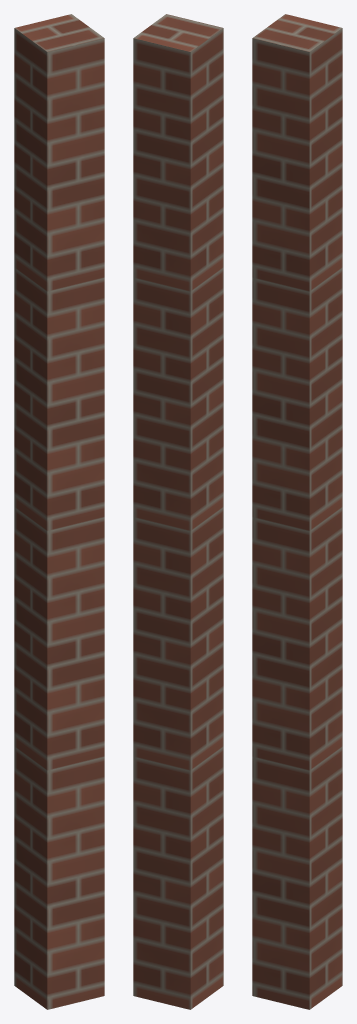
The model's file is wall_post_brick.fbx.
The picture shows the model from 3 angles, left to right: view 1: azimuth 30°, elevation 25°; view 2: azimuth 150°, elevation 25°; view 3: azimuth 330°, elevation 25°; orthographic projection.
Visible parts, largest first — view 1: wall_post_brick; view 2: wall_post_brick; view 3: wall_post_brick.
Part boxes in pixels (x1,y1,x2,y2): wall_post_brick: (14, 14, 104, 1009); wall_post_brick: (133, 14, 223, 1009); wall_post_brick: (252, 14, 342, 1009).
Bounding box in the file's own units: 0.25 × 4 × 0.25.
1 material, 1 textured.
